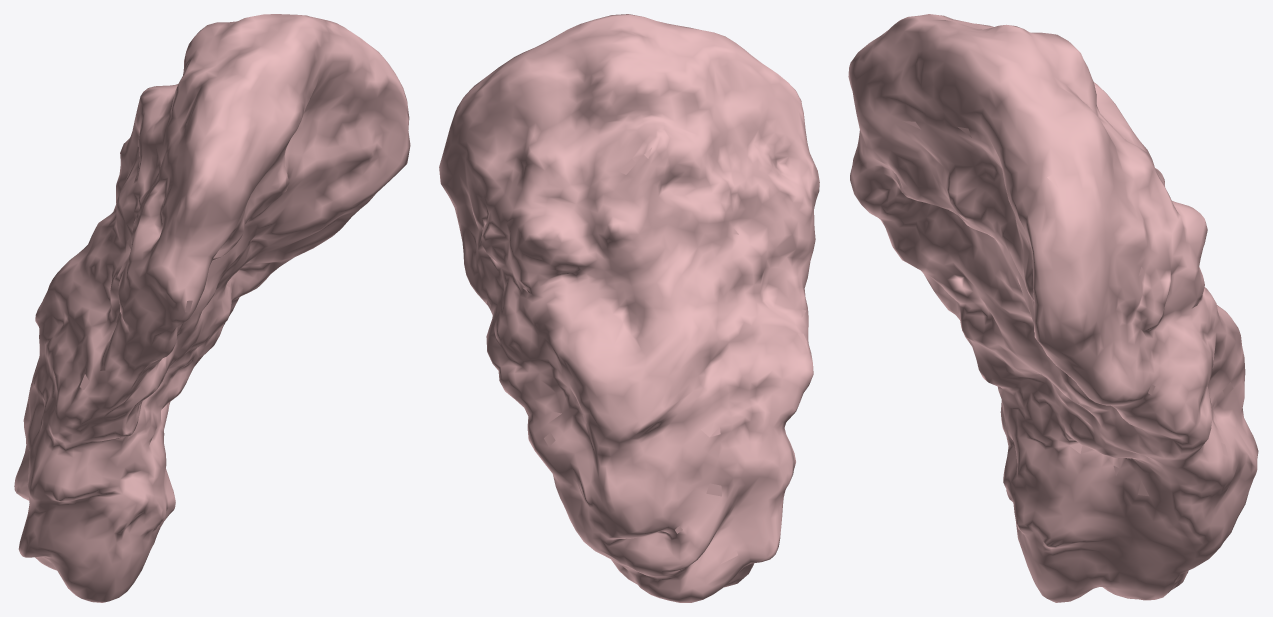
Rendered from 3d-vh-f-palatine-tonsil-r-80.glb.
The picture shows the model from 3 angles, left to right: view 1: azimuth 30°, elevation 25°; view 2: azimuth 150°, elevation 25°; view 3: azimuth 270°, elevation 25°; orthographic projection. The views are drawn at different scales.
Visible parts, largest first — view 1: VH_F_palatine_tonsil_R; view 2: VH_F_palatine_tonsil_R; view 3: VH_F_palatine_tonsil_R.
Part boxes in pixels (x1,y1,x2,y2): VH_F_palatine_tonsil_R: (14, 14, 410, 602); VH_F_palatine_tonsil_R: (439, 14, 819, 602); VH_F_palatine_tonsil_R: (848, 14, 1258, 602).
Bounding box in the file's own units: 0.0168 × 0.0239 × 0.0139.
